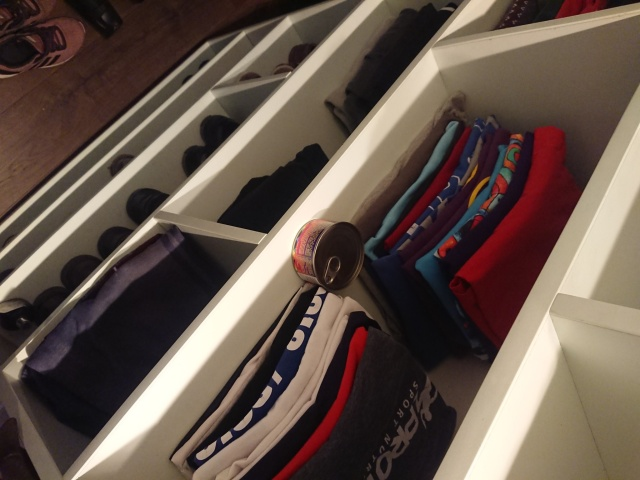Giana Tuna Salad Mexico 185g: (290, 217, 366, 295)
